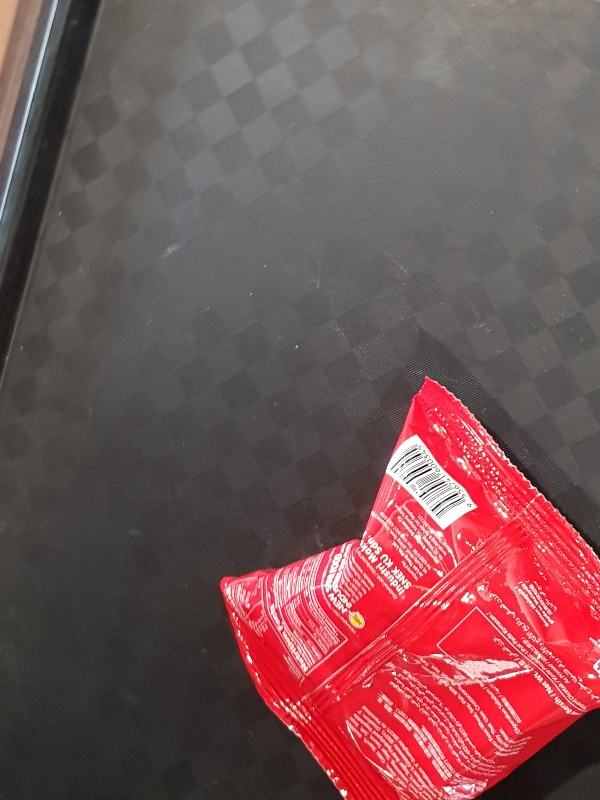ShoyueMi Spicy Flavoured Snacks: (217, 376, 599, 800)
